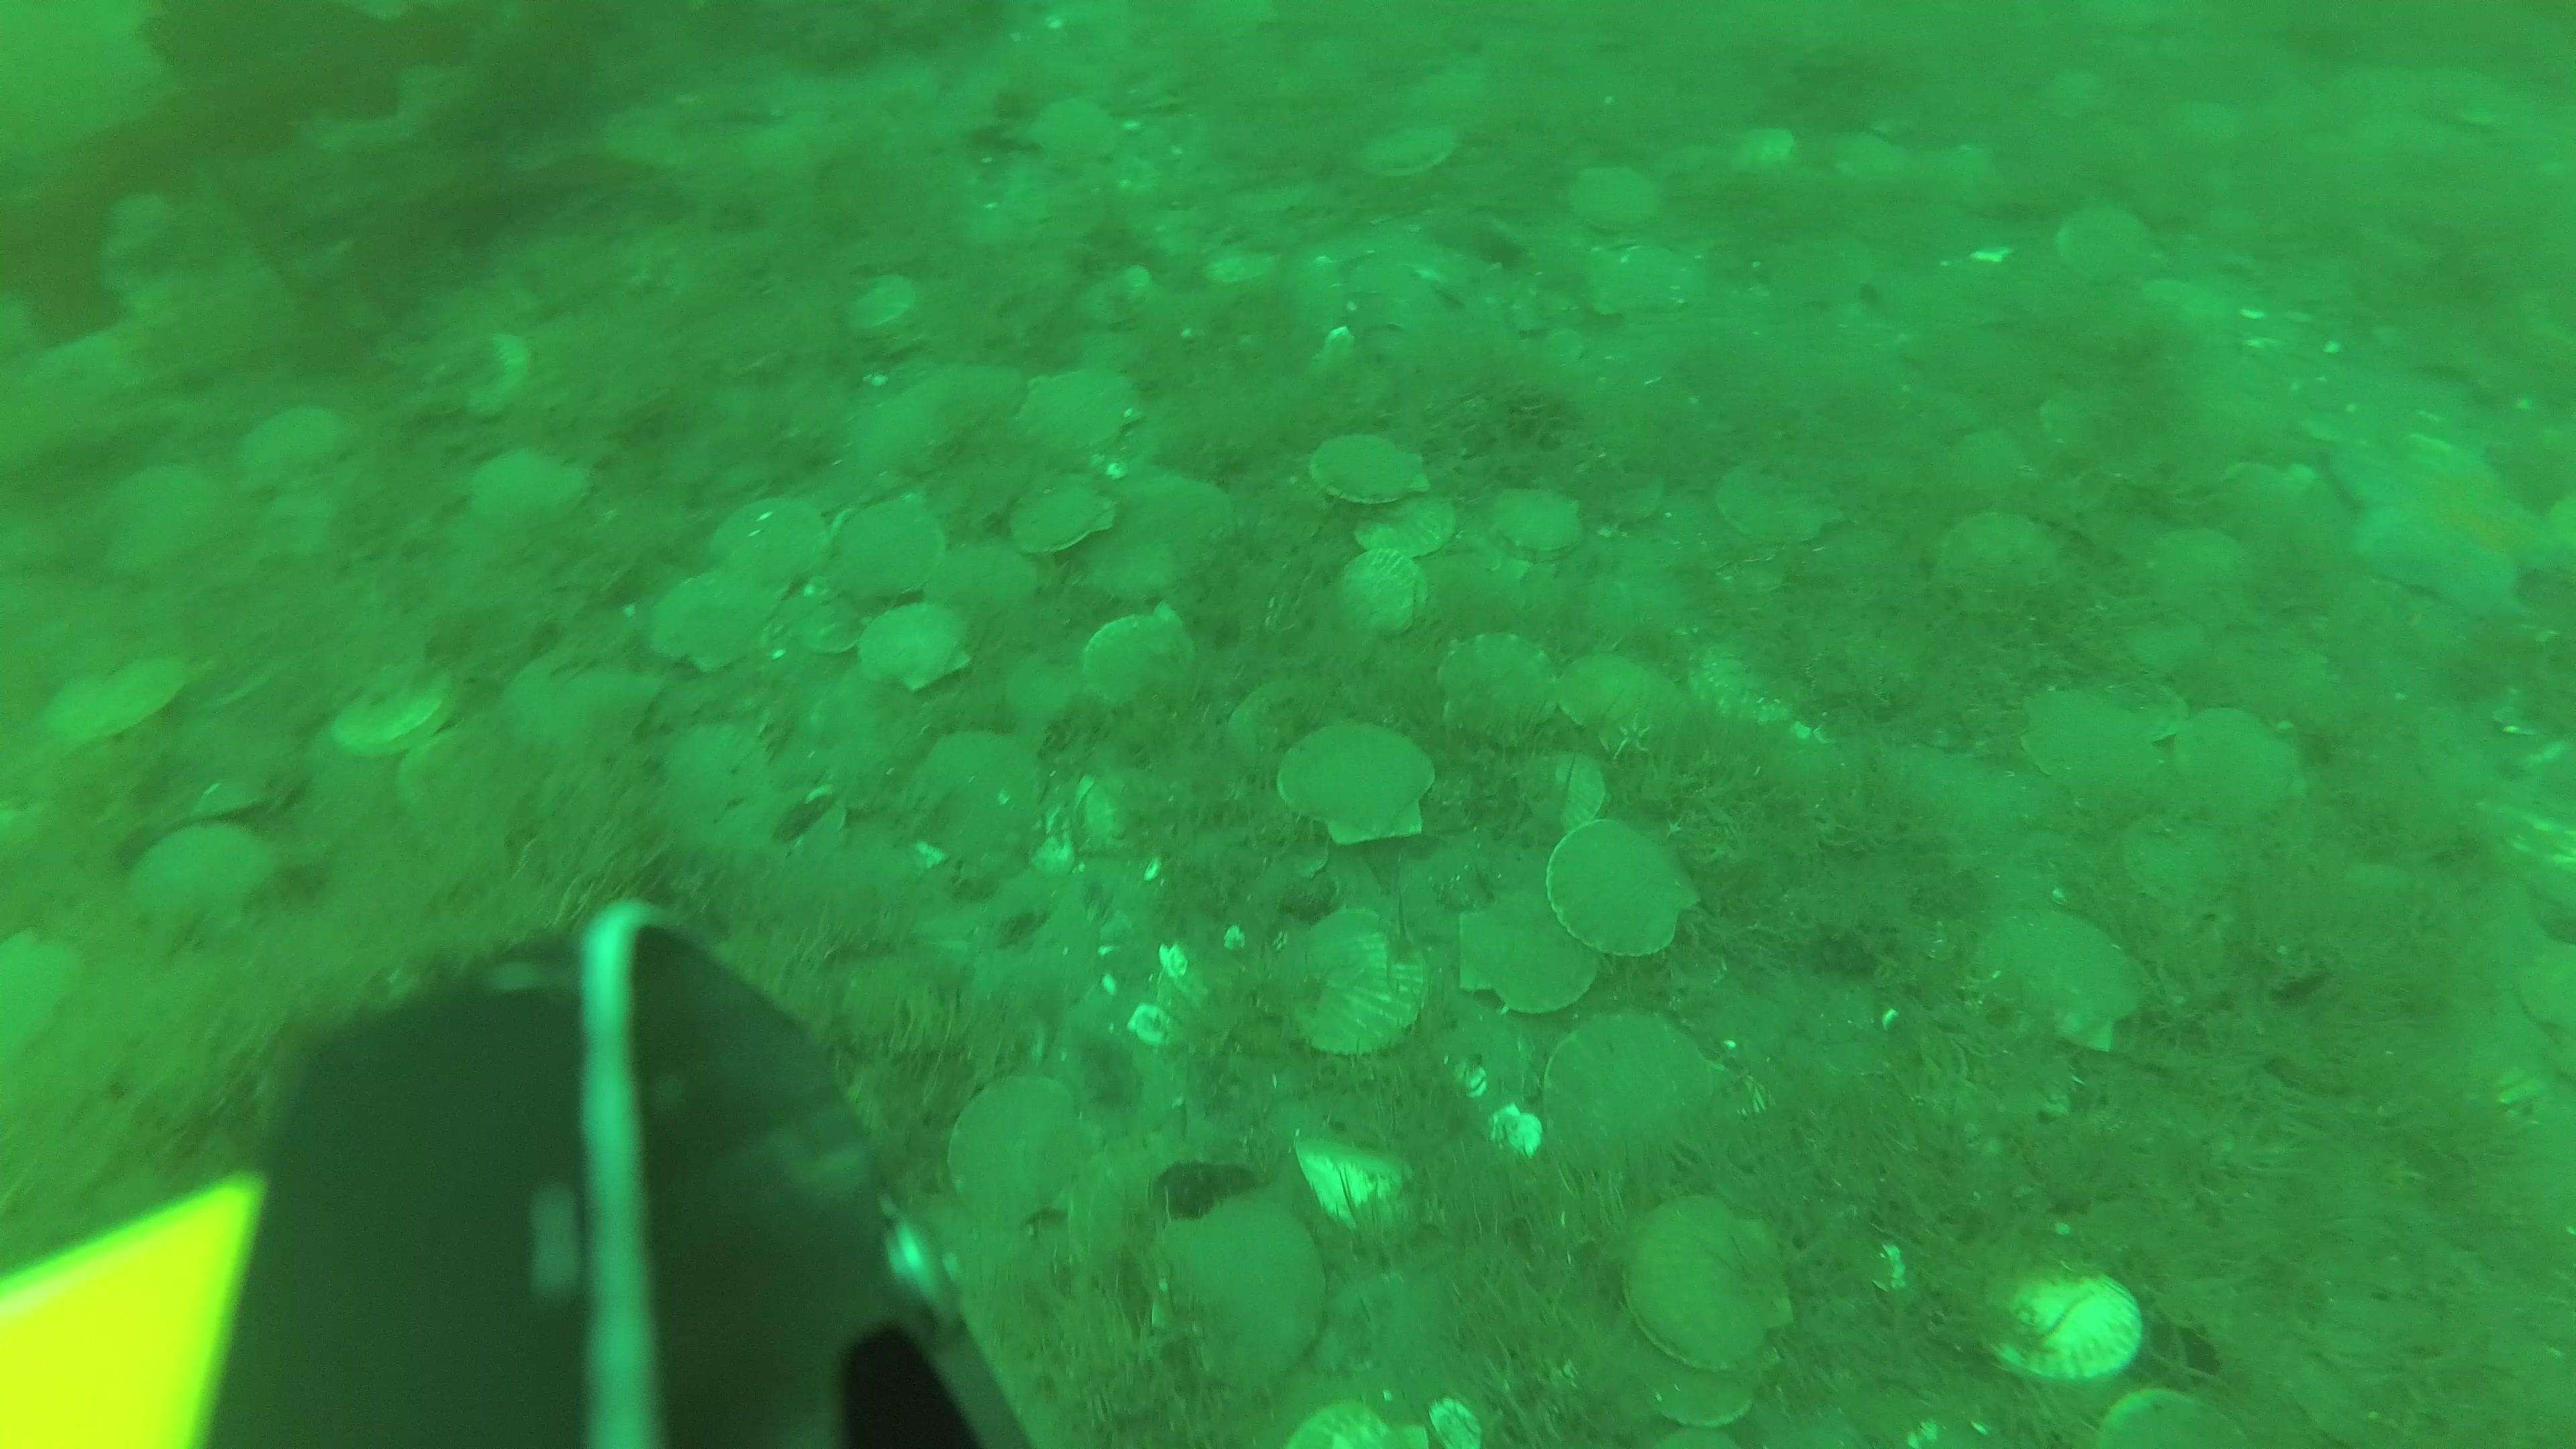scallop: (1536, 1012, 1743, 1200), (1154, 1185, 1329, 1396), (1619, 1178, 1796, 1380), (1962, 901, 2162, 1060), (1258, 897, 1435, 1063), (947, 1072, 1100, 1237), (1537, 816, 1702, 957), (1971, 1254, 2148, 1384), (1070, 1122, 1215, 1277), (1276, 715, 1438, 853), (1454, 876, 1610, 1019), (124, 819, 283, 955), (2006, 683, 2173, 810), (911, 725, 1054, 849), (37, 653, 198, 755), (88, 464, 235, 575), (1428, 630, 1557, 754), (1619, 1322, 1766, 1428), (2176, 704, 2305, 823), (329, 651, 462, 761), (1223, 672, 1348, 787), (646, 575, 784, 678), (1930, 508, 2058, 614), (1014, 364, 1146, 465), (1552, 648, 1684, 748), (1083, 609, 1205, 717), (830, 497, 954, 602), (1707, 458, 1849, 548), (2151, 518, 2270, 625), (2, 922, 88, 1065), (1684, 644, 1821, 729), (709, 495, 833, 587), (855, 603, 982, 692), (925, 533, 1053, 621), (655, 718, 768, 817), (235, 403, 356, 495), (465, 446, 587, 536), (2118, 819, 2233, 915), (1306, 426, 1438, 506), (1104, 467, 1246, 541), (1001, 472, 1120, 559), (2088, 1387, 2250, 1449), (1582, 244, 1713, 320), (1330, 548, 1433, 640), (1771, 228, 1874, 315), (2054, 203, 2162, 285), (451, 327, 538, 426), (1083, 522, 1196, 594), (1486, 481, 1585, 563), (839, 393, 947, 467), (1277, 1401, 1444, 1449), (1348, 487, 1460, 557), (1523, 750, 1610, 840), (2514, 931, 2576, 1054), (2035, 377, 2125, 460), (1026, 101, 1125, 173), (1568, 163, 1665, 235), (1361, 119, 1465, 186), (915, 359, 1023, 423), (839, 269, 927, 343), (1000, 649, 1085, 722), (1941, 140, 2015, 214), (1074, 267, 1161, 331), (1831, 127, 1921, 186), (1723, 124, 1801, 177), (2047, 69, 2120, 126)
starfish: (2318, 419, 2553, 623)
